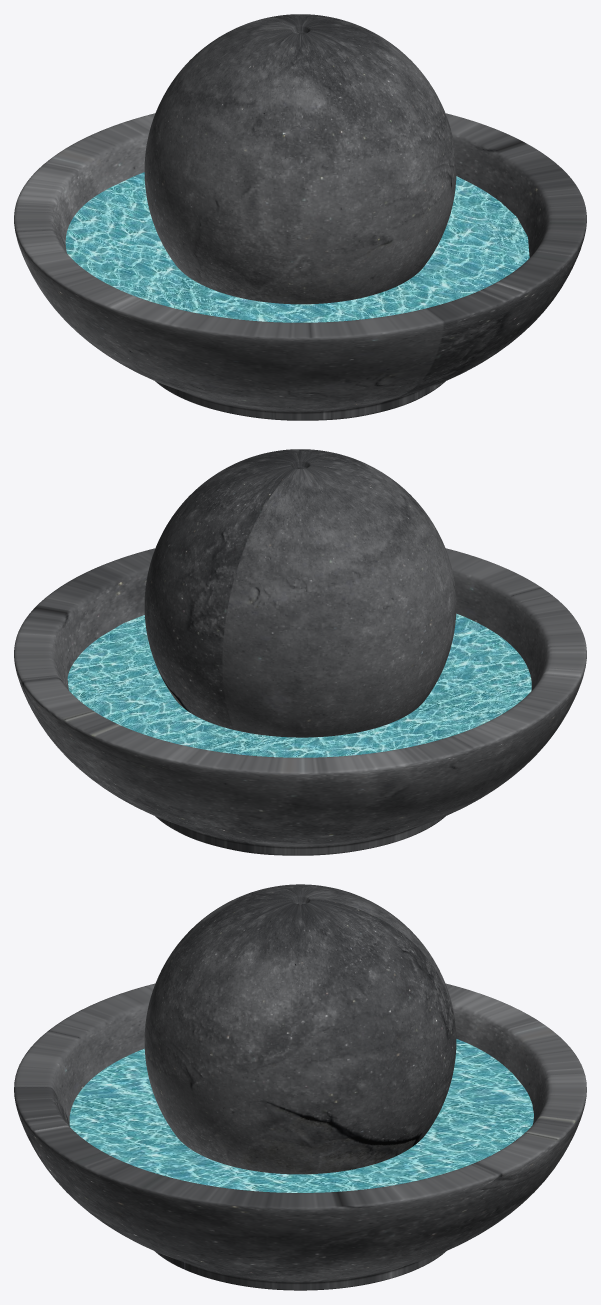
The model's file is fantana.obj.
3 views of the same model, one above another, from view 1: azimuth 30°, elevation 25°; view 2: azimuth 150°, elevation 25°; view 3: azimuth 270°, elevation 25° (orthographic).
Visible parts, largest first — view 1: 13178_ball_fountain_v3_NEW, Circle; view 2: 13178_ball_fountain_v3_NEW, Circle; view 3: 13178_ball_fountain_v3_NEW, Circle.
Boxes of the visible parts, x1=… form: 13178_ball_fountain_v3_NEW: x1=14, y1=14, x2=586, y2=420; Circle: x1=65, y1=172, x2=529, y2=322; 13178_ball_fountain_v3_NEW: x1=14, y1=449, x2=586, y2=855; Circle: x1=67, y1=613, x2=531, y2=757; 13178_ball_fountain_v3_NEW: x1=14, y1=884, x2=586, y2=1290; Circle: x1=69, y1=1039, x2=533, y2=1192.
Bounding box in the file's own units: 0.4232 × 0.265 × 0.4232.
Materials: 2 (2 with a texture image).
